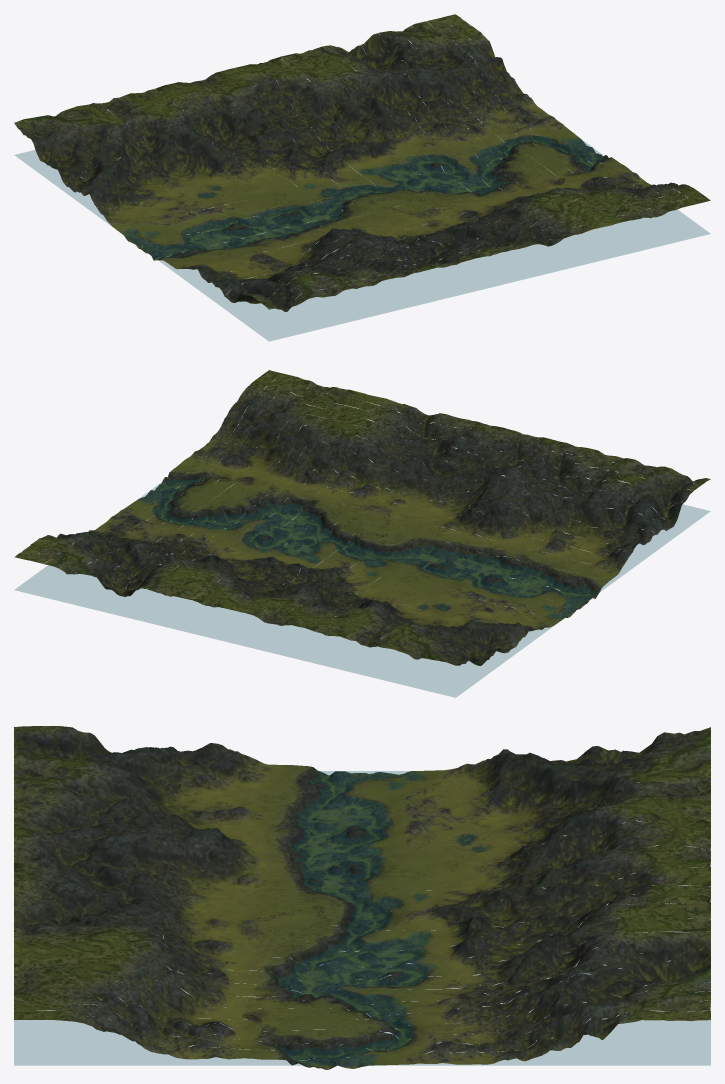
File: terreno-fng.glb
3 views of the same model, one above another, from view 1: azimuth 30°, elevation 25°; view 2: azimuth 150°, elevation 25°; view 3: azimuth 270°, elevation 25° (orthographic). The views are drawn at different scales.
Parts seen in each view (by area): view 1: Null_2, Plane; view 2: Null_2, Plane; view 3: Null_2, Plane.
Part boxes in pixels (x1=…): Null_2: x1=14, y1=14, x2=710, y2=311; Plane: x1=15, y1=119, x2=709, y2=341; Null_2: x1=14, y1=370, x2=710, y2=665; Plane: x1=15, y1=452, x2=710, y2=697; Null_2: x1=14, y1=726, x2=710, y2=1069; Plane: x1=14, y1=771, x2=710, y2=1065.
Size of the model in its own units: 4 by 0.3179 by 4.
2 materials, 1 textured.
